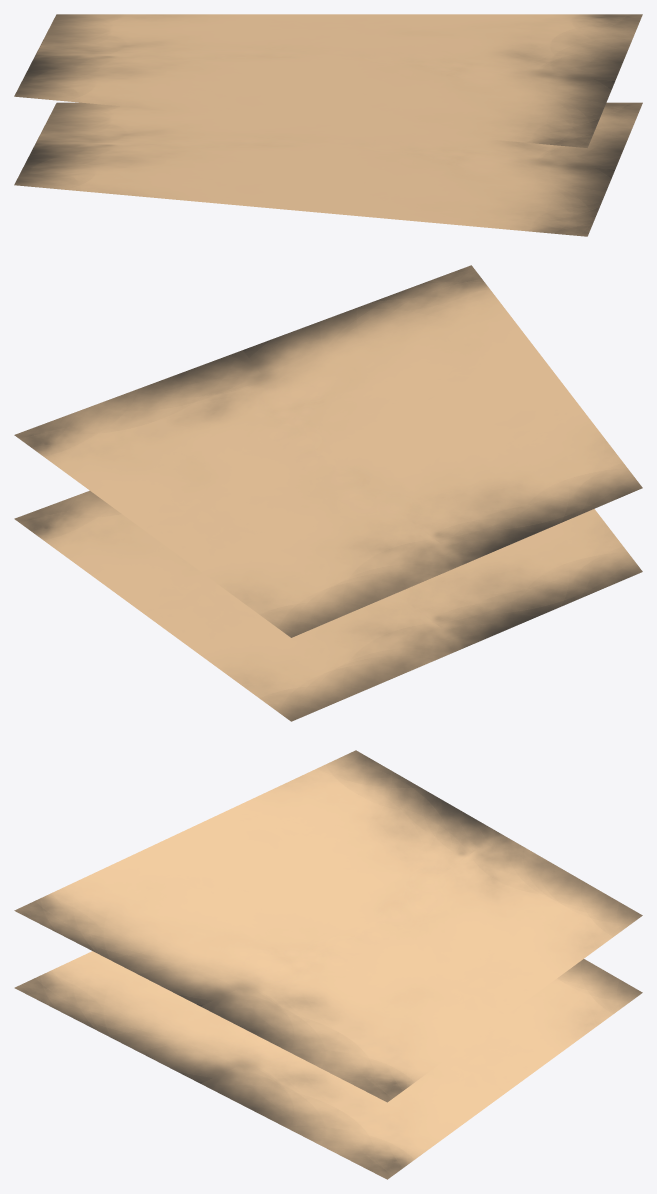
The model's file is CourseSummer_CurveFloor_8_5.fbx.
3 renders of one model, top to bottom at view 1: azimuth 30°, elevation 25°; view 2: azimuth 150°, elevation 25°; view 3: azimuth 270°, elevation 25°, orthographic. The views are drawn at different scales.
Parts seen in each view (by area): view 1: polySurface243, polySurface251; view 2: polySurface243, polySurface251; view 3: polySurface243, polySurface251.
Part boxes in pixels (x1=…): polySurface243: x1=14, y1=14, x2=642, y2=148; polySurface251: x1=14, y1=102, x2=642, y2=236; polySurface243: x1=14, y1=265, x2=642, y2=637; polySurface251: x1=14, y1=490, x2=642, y2=721; polySurface243: x1=14, y1=750, x2=642, y2=1102; polySurface251: x1=14, y1=951, x2=642, y2=1179.
Size of the model in its own units: 7.64 by 2 by 7.38.
Materials: 1 (1 with a texture image).
